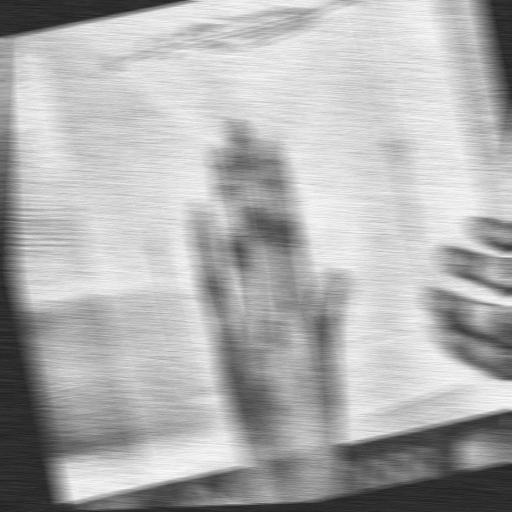envelop: (99, 0, 451, 410)
